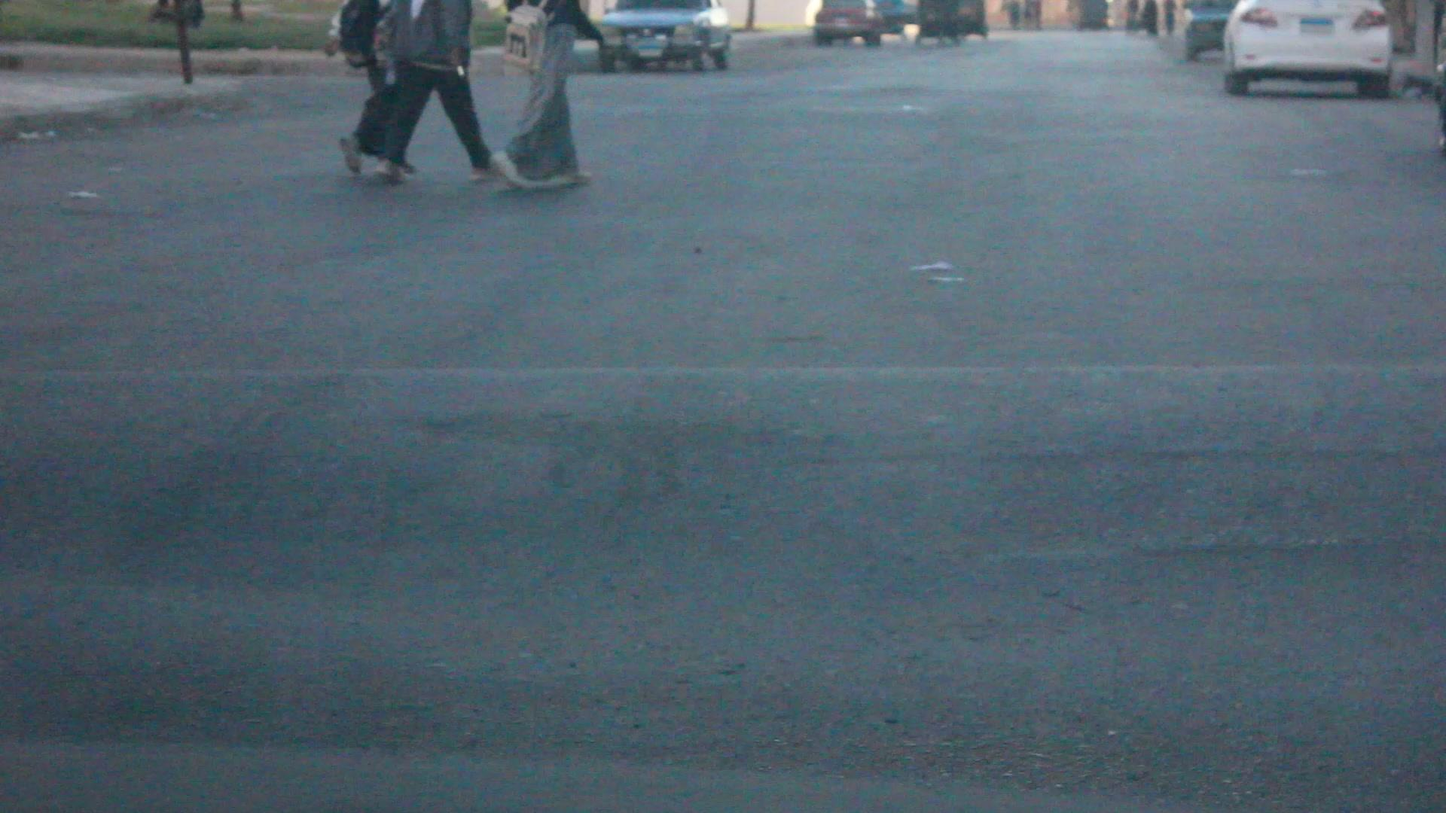Bump: (6, 346, 1446, 610)
